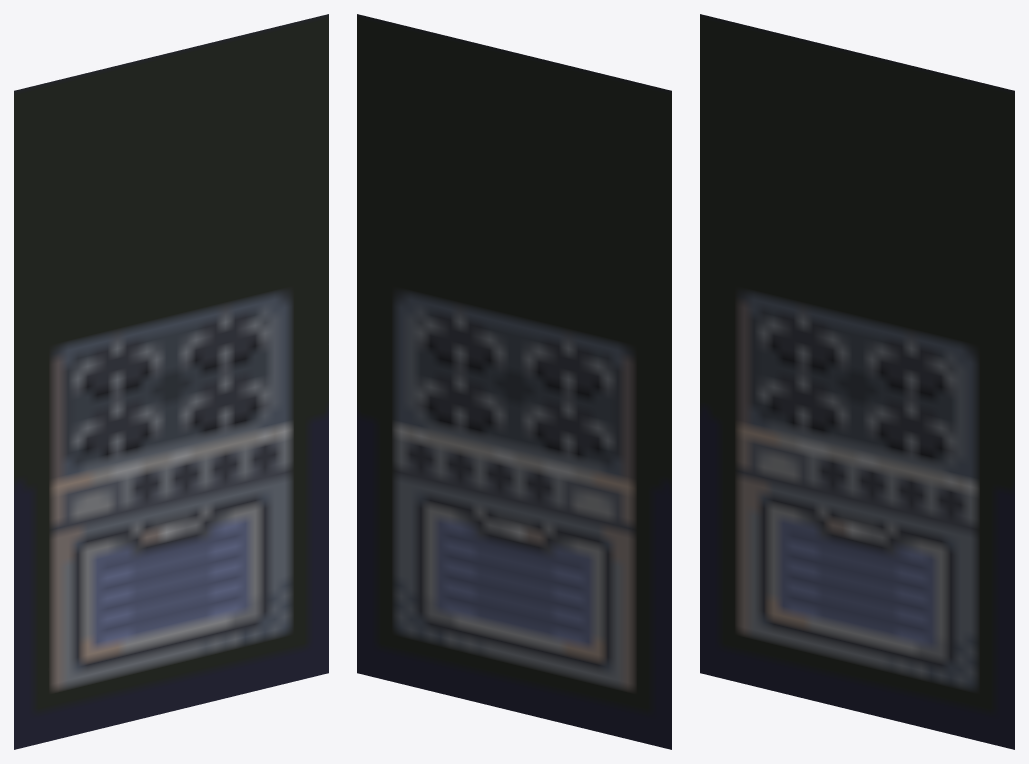
File: Oven_Down.glb
3 renders of one model, left to right at view 1: azimuth 30°, elevation 25°; view 2: azimuth 150°, elevation 25°; view 3: azimuth 330°, elevation 25°, orthographic.
Parts seen in each view (by area): view 1: pPlane1; view 2: pPlane1; view 3: pPlane1.
Boxes of the visible parts, x1=… form: pPlane1: x1=14, y1=14, x2=328, y2=749; pPlane1: x1=357, y1=14, x2=671, y2=749; pPlane1: x1=700, y1=14, x2=1014, y2=749.
Bounding box in the file's own units: 1 × 2 × 0.
1 material, 1 textured.
